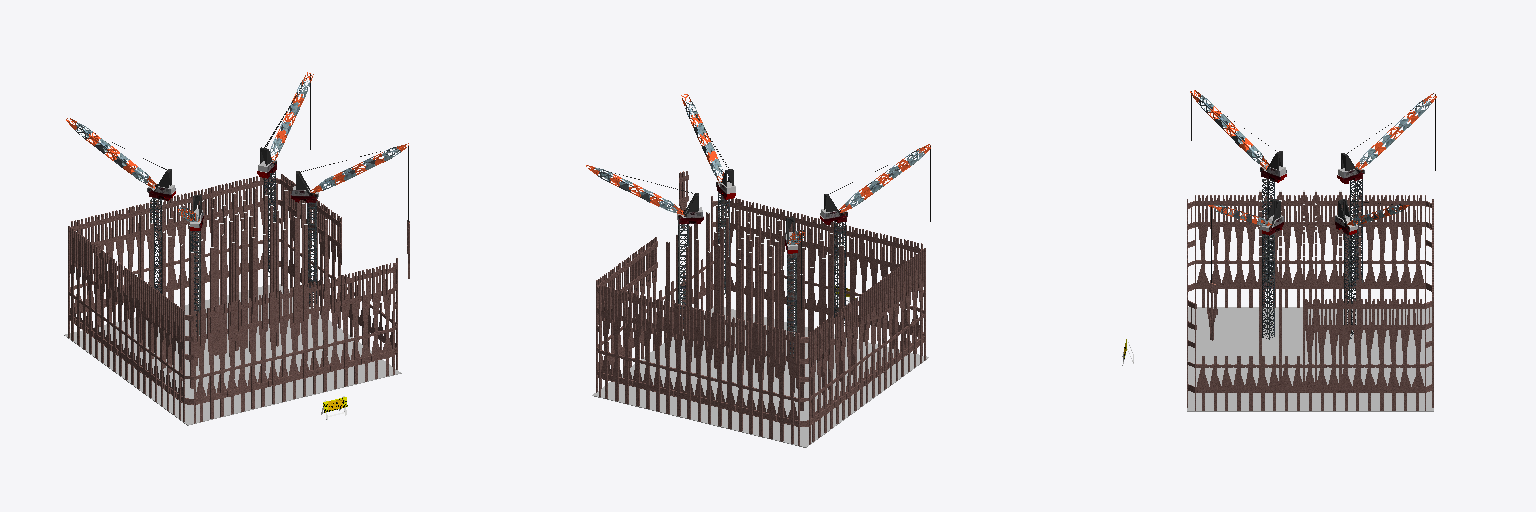
3 views of the same model, side by side, from view 1: azimuth 30°, elevation 25°; view 2: azimuth 150°, elevation 25°; view 3: azimuth 270°, elevation 25° (orthographic).
Parts seen in each view (by area): view 1: Mesh142 Group19 World_Trade_Center_Tower_Construction1 WTC_Under, Mesh157 Component_2_3 Component_5_3 Component_7_3 WTC_Under_Cons, Mesh151 Component_2_2 Component_5_2 Component_7_2 Tower_Cranes1 , Mesh55 Gruppe_4_33 Group2 Group1 World_Trade_Center_Tower_Constr, Mesh38 Gruppe_4_17 Group2 Group1 World_Trade_Center_Tower_Constr, Mesh73 Gruppe_4_51 Group2 Group1 World_Trade_Center_Tower_Constr, Mesh39 Gruppe_4_18 Group2 Group1 World_Trade_Center_Tower_Constr, Mesh68 Gruppe_4_46 Group2 Group1 World_Trade_Center_Tower_Constr, Mesh74 Gruppe_4_52 Group2 Group1 World_Trade_Center_Tower_Constr, Mesh40 Gruppe_4_19 Group2 Group1 World_Trade_Center_Tower_Constr, Mesh54 Gruppe_4_32 Group2 Group1 World_Trade_Center_Tower_Constr, Mesh71 Gruppe_4_49 Group2 Group1 World_Trade_Center_Tower_Constr (+15 smaller); view 2: Mesh142 Group19 World_Trade_Center_Tower_Construction1 WTC_Under, Mesh163 Component_2_4 Component_5_4 Component_7_4 WTC_Under_Cons, Mesh145 Component_2_1 Component_5_1 Component_7_1 Tower_Cranes1 , Mesh37 Gruppe_4_16 Group2 Group1 World_Trade_Center_Tower_Constr, Mesh28 Gruppe_4_9 Group2 Group1 World_Trade_Center_Tower_Constru, Mesh24 Gruppe_4_5 Group2 Group1 World_Trade_Center_Tower_Constru, Mesh20 Gruppe_4_2 Group2 Group1 World_Trade_Center_Tower_Constru, Mesh65 Gruppe_4_43 Group2 Group1 World_Trade_Center_Tower_Constr, Mesh22 Gruppe_4_3 Group2 Group1 World_Trade_Center_Tower_Constru, Mesh26 Gruppe_4_7 Group2 Group1 World_Trade_Center_Tower_Constru, Mesh63 Gruppe_4_41 Group2 Group1 World_Trade_Center_Tower_Constr, Mesh29 Gruppe_4_10 Group2 Group1 World_Trade_Center_Tower_Constr (+16 smaller); view 3: Mesh142 Group19 World_Trade_Center_Tower_Construction1 WTC_Under, Mesh155 Component_6_2 Component_7_2 Tower_Cranes1 WTC_Under_Cons, Mesh163 Component_2_4 Component_5_4 Component_7_4 WTC_Under_Cons, Mesh157 Component_2_3 Component_5_3 Component_7_3 WTC_Under_Cons, Mesh35 Gruppe_4_14 Group2 Group1 World_Trade_Center_Tower_Constr, Mesh57 Gruppe_4_35 Group2 Group1 World_Trade_Center_Tower_Constr, Mesh60 Gruppe_4_38 Group2 Group1 World_Trade_Center_Tower_Constr, Mesh12 Group12 Group11 Group2 Group1 World_Trade_Center_Tower_Co, Mesh51 Gruppe_4_30 Group2 Group1 World_Trade_Center_Tower_Constr, Mesh52 Gruppe_4_31 Group2 Group1 World_Trade_Center_Tower_Constr, Mesh23 Gruppe_4_4 Group2 Group1 World_Trade_Center_Tower_Constru, Mesh33 Gruppe_4_13 Group2 Group1 World_Trade_Center_Tower_Constr (+20 smaller).
Boxes of the visible parts, x1=… form: Mesh142 Group19 World_Trade_Center_Tower_Construction1 WTC_Under: x1=65, y1=284, x2=400, y2=424; Mesh157 Component_2_3 Component_5_3 Component_7_3 WTC_Under_Cons: x1=66, y1=118, x2=156, y2=188; Mesh151 Component_2_2 Component_5_2 Component_7_2 Tower_Cranes1 : x1=310, y1=143, x2=408, y2=192; Mesh55 Gruppe_4_33 Group2 Group1 World_Trade_Center_Tower_Constr: x1=278, y1=289, x2=288, y2=401; Mesh38 Gruppe_4_17 Group2 Group1 World_Trade_Center_Tower_Constr: x1=237, y1=299, x2=247, y2=411; Mesh73 Gruppe_4_51 Group2 Group1 World_Trade_Center_Tower_Constr: x1=258, y1=294, x2=268, y2=406; Mesh39 Gruppe_4_18 Group2 Group1 World_Trade_Center_Tower_Constr: x1=340, y1=273, x2=350, y2=386; Mesh68 Gruppe_4_46 Group2 Group1 World_Trade_Center_Tower_Constr: x1=206, y1=306, x2=216, y2=418; Mesh74 Gruppe_4_52 Group2 Group1 World_Trade_Center_Tower_Constr: x1=351, y1=271, x2=361, y2=383; Mesh40 Gruppe_4_19 Group2 Group1 World_Trade_Center_Tower_Constr: x1=217, y1=304, x2=227, y2=416; Mesh54 Gruppe_4_32 Group2 Group1 World_Trade_Center_Tower_Constr: x1=320, y1=279, x2=330, y2=391; Mesh71 Gruppe_4_49 Group2 Group1 World_Trade_Center_Tower_Constr: x1=299, y1=283, x2=309, y2=396; Mesh142 Group19 World_Trade_Center_Tower_Construction1 WTC_Under: x1=592, y1=306, x2=928, y2=446; Mesh163 Component_2_4 Component_5_4 Component_7_4 WTC_Under_Cons: x1=839, y1=144, x2=930, y2=212; Mesh145 Component_2_1 Component_5_1 Component_7_1 Tower_Cranes1 : x1=586, y1=165, x2=684, y2=215; Mesh37 Gruppe_4_16 Group2 Group1 World_Trade_Center_Tower_Constr: x1=611, y1=288, x2=622, y2=401; Mesh28 Gruppe_4_9 Group2 Group1 World_Trade_Center_Tower_Constru: x1=735, y1=318, x2=745, y2=431; Mesh24 Gruppe_4_5 Group2 Group1 World_Trade_Center_Tower_Constru: x1=683, y1=306, x2=693, y2=418; Mesh20 Gruppe_4_2 Group2 Group1 World_Trade_Center_Tower_Constru: x1=652, y1=298, x2=663, y2=411; Mesh65 Gruppe_4_43 Group2 Group1 World_Trade_Center_Tower_Constr: x1=776, y1=328, x2=786, y2=441; Mesh22 Gruppe_4_3 Group2 Group1 World_Trade_Center_Tower_Constru: x1=745, y1=321, x2=756, y2=433; Mesh26 Gruppe_4_7 Group2 Group1 World_Trade_Center_Tower_Constru: x1=642, y1=296, x2=652, y2=408; Mesh63 Gruppe_4_41 Group2 Group1 World_Trade_Center_Tower_Constr: x1=715, y1=313, x2=725, y2=426; Mesh29 Gruppe_4_10 Group2 Group1 World_Trade_Center_Tower_Constr: x1=632, y1=293, x2=642, y2=406; Mesh142 Group19 World_Trade_Center_Tower_Construction1 WTC_Under: x1=1187, y1=307, x2=1433, y2=410; Mesh155 Component_6_2 Component_7_2 Tower_Cranes1 WTC_Under_Cons: x1=1262, y1=233, x2=1274, y2=339; Mesh163 Component_2_4 Component_5_4 Component_7_4 WTC_Under_Cons: x1=1190, y1=90, x2=1268, y2=169; Mesh157 Component_2_3 Component_5_3 Component_7_3 WTC_Under_Cons: x1=1355, y1=93, x2=1436, y2=169; Mesh35 Gruppe_4_14 Group2 Group1 World_Trade_Center_Tower_Constr: x1=1388, y1=299, x2=1399, y2=410; Mesh57 Gruppe_4_35 Group2 Group1 World_Trade_Center_Tower_Constr: x1=1376, y1=299, x2=1387, y2=410; Mesh60 Gruppe_4_38 Group2 Group1 World_Trade_Center_Tower_Constr: x1=1340, y1=299, x2=1351, y2=410; Mesh12 Group12 Group11 Group2 Group1 World_Trade_Center_Tower_Co: x1=1196, y1=195, x2=1208, y2=307; Mesh51 Gruppe_4_30 Group2 Group1 World_Trade_Center_Tower_Constr: x1=1328, y1=299, x2=1339, y2=410; Mesh52 Gruppe_4_31 Group2 Group1 World_Trade_Center_Tower_Constr: x1=1316, y1=299, x2=1327, y2=410; Mesh23 Gruppe_4_4 Group2 Group1 World_Trade_Center_Tower_Constru: x1=1304, y1=299, x2=1315, y2=410; Mesh33 Gruppe_4_13 Group2 Group1 World_Trade_Center_Tower_Constr: x1=1364, y1=299, x2=1375, y2=410.
Bounding box in the file's own units: 472 × 401 × 532.
Materials: 73 (47 with a texture image).